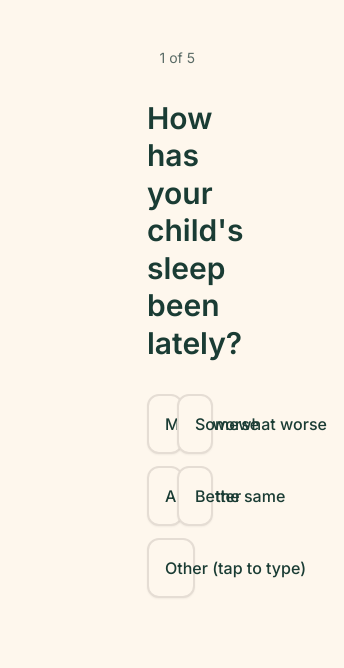
Test: AssessmentCard › Other Text Input › should cancel and hide text input when Cancel is clicked
Click Other
Step 1. Click the button "Other (tap to type)" → (171, 568), box [147,538,195,598]
(page scrolled)
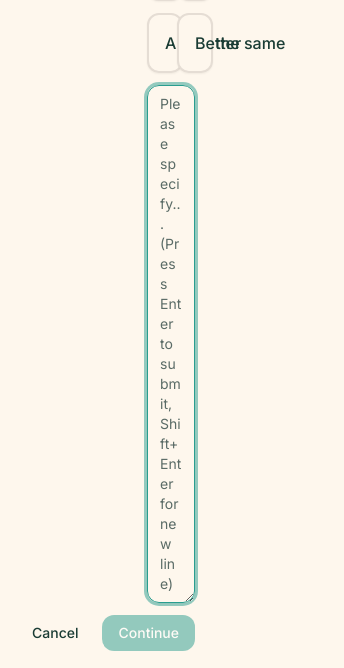
Type some text
Step 2. Replace the text in the text box named "other answer text" with "Some text" → (171, 344), box [147,84,195,602]
(page scrolled)
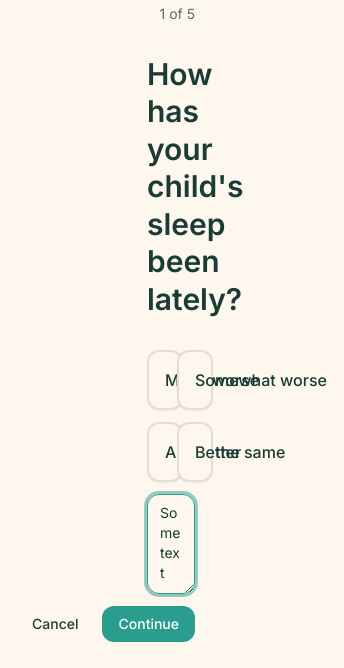
Click Cancel
Step 3. Click the button "Cancel" → (55, 624), box [16,606,94,642]
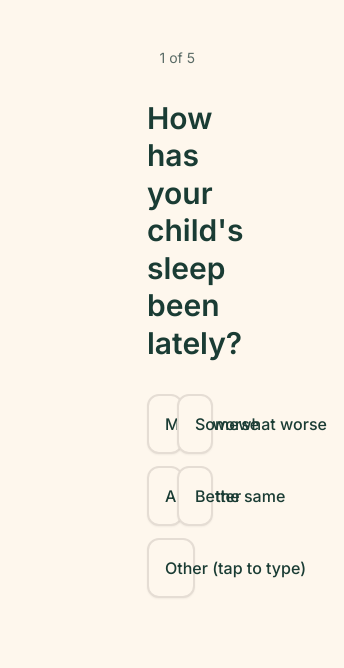
Expected: the button "Other (tap to type)" is shown, [147,538,195,598]
